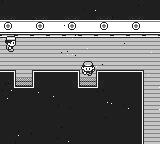main: (81, 61, 96, 75)
no-caminable: (1, 70, 144, 143), (0, 1, 159, 21), (0, 21, 159, 39)
npc: (5, 37, 18, 52)
puerta: (14, 71, 33, 87), (79, 71, 97, 87)
